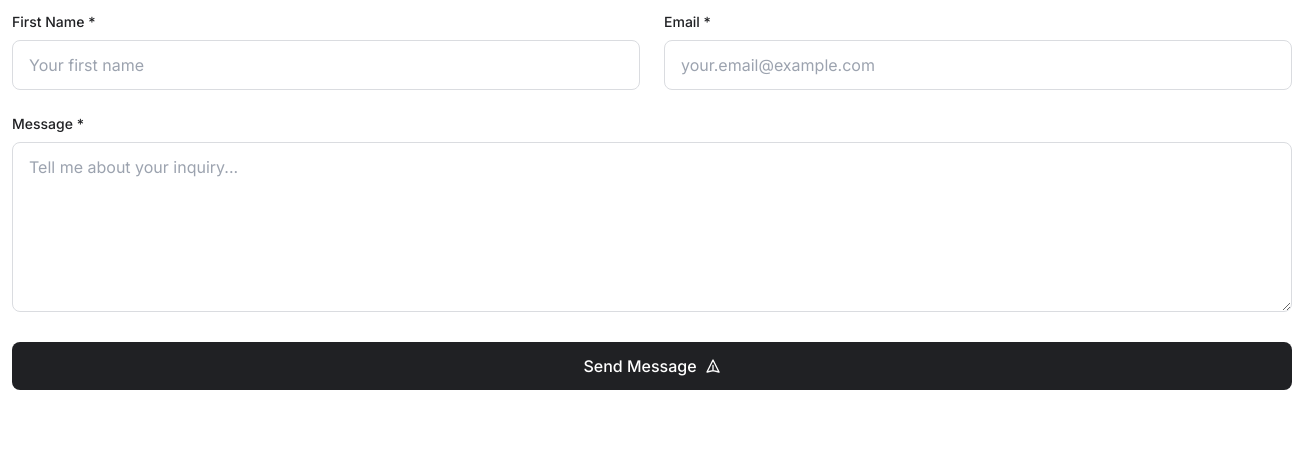
Scenario: ContactForm › Form Validation › validates email format
The width and height of the screenshot is (1304, 455).
Type "invalid-email" into the field labelled "Email *" at (978, 65), box [664,40,1292,90]
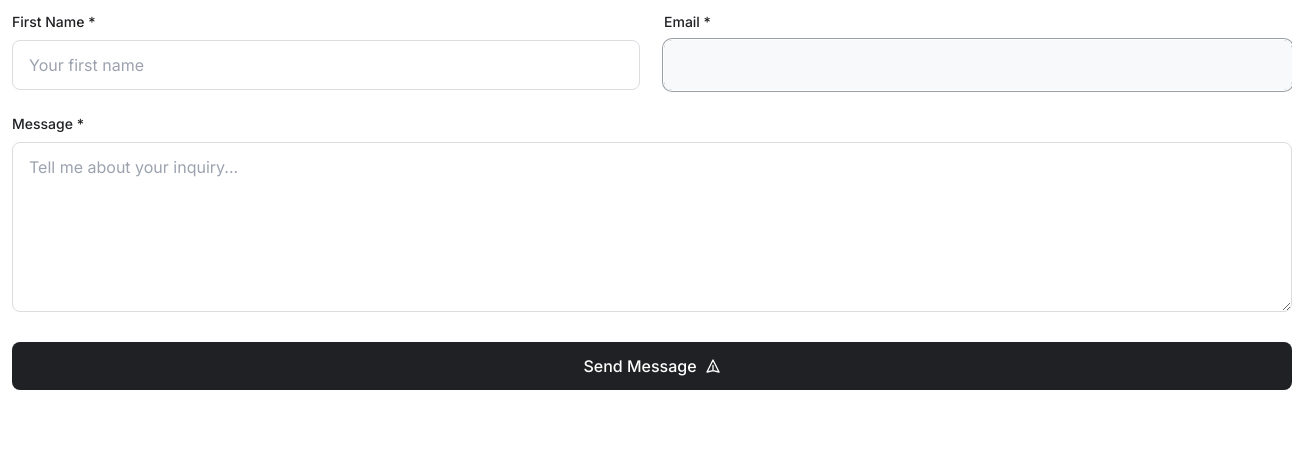
Submit the form "First Name * Email * Message * Send Message"
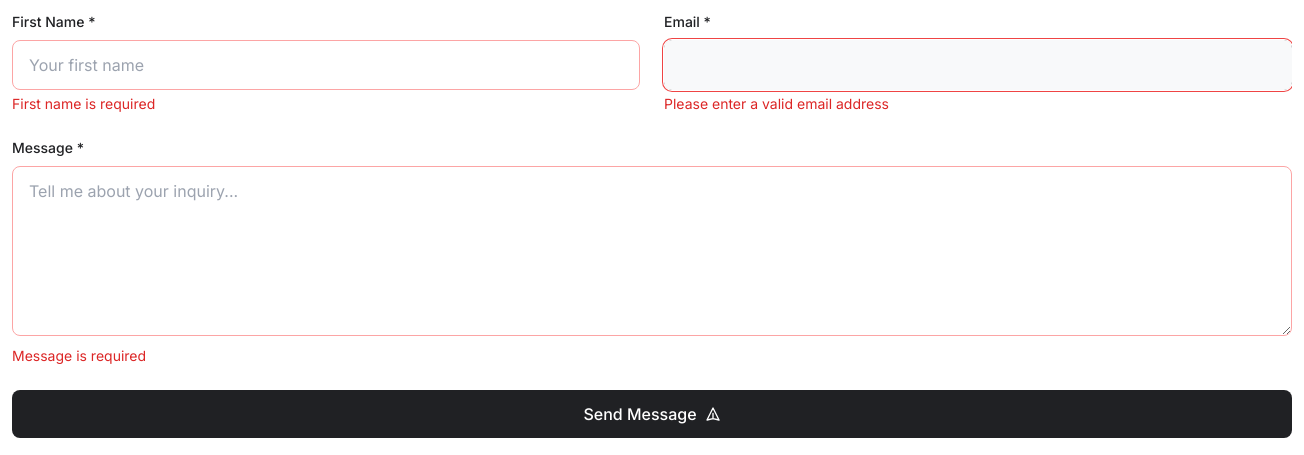
Expected: the text "Please enter a valid email address" is shown, [664,95,889,112]
